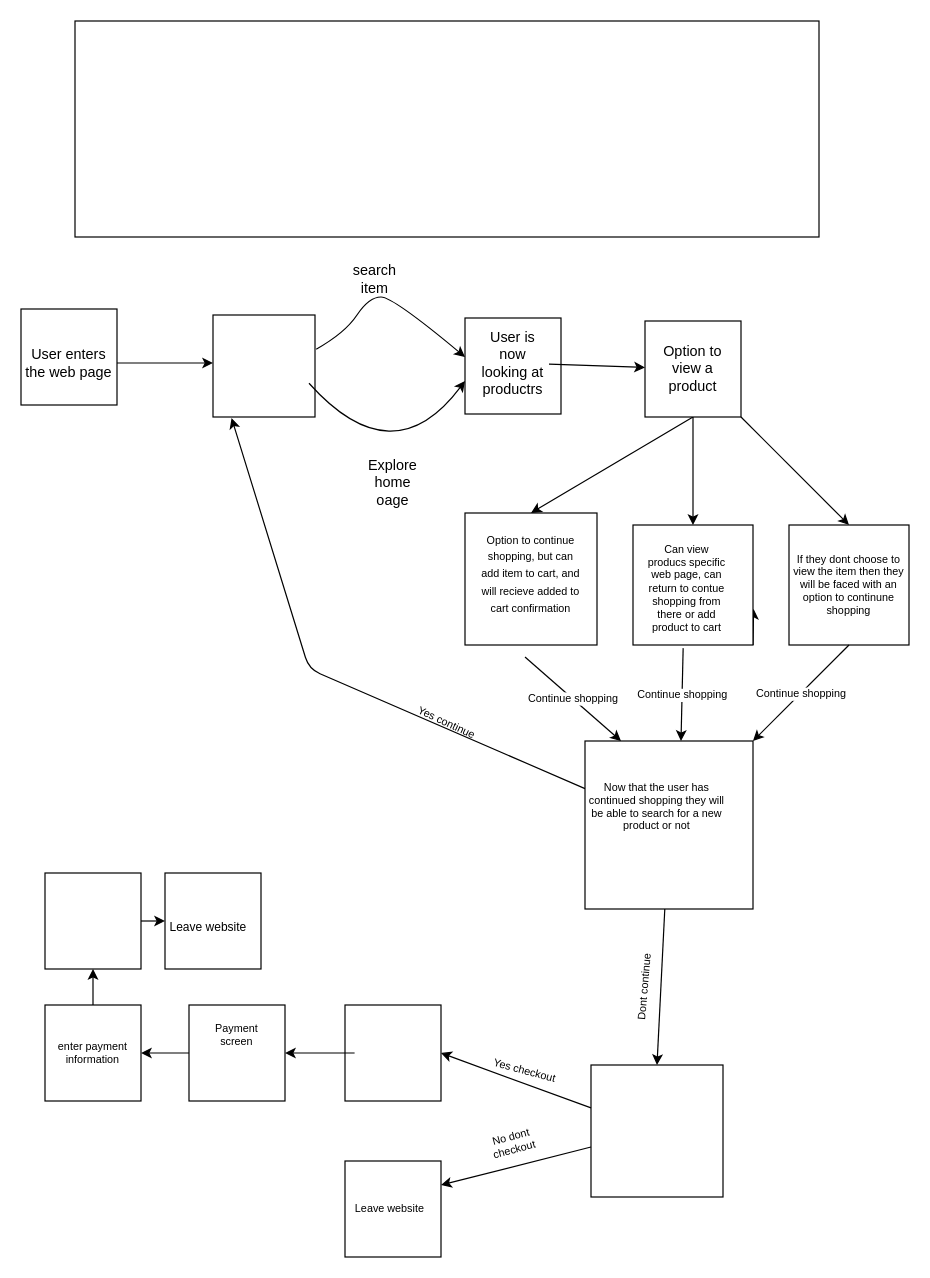
Image size: 930x1278. Some labels were removed from this diagram. The shapes that lost their labels are listed below. From the top down, each one's box as (x1, y1, x2, y2) in pixels, then its label:
(74, 20, 819, 237): USER Experience Flow Map of a simple retail web shop
(212, 314, 315, 417): Option to search for an item or explore home page
(44, 872, 141, 969): Ater paying they will recieve an order confirmation screen and recieve an email
(344, 1004, 441, 1101): Go to view cart screen
(590, 1064, 723, 1197): User can checkout or not
